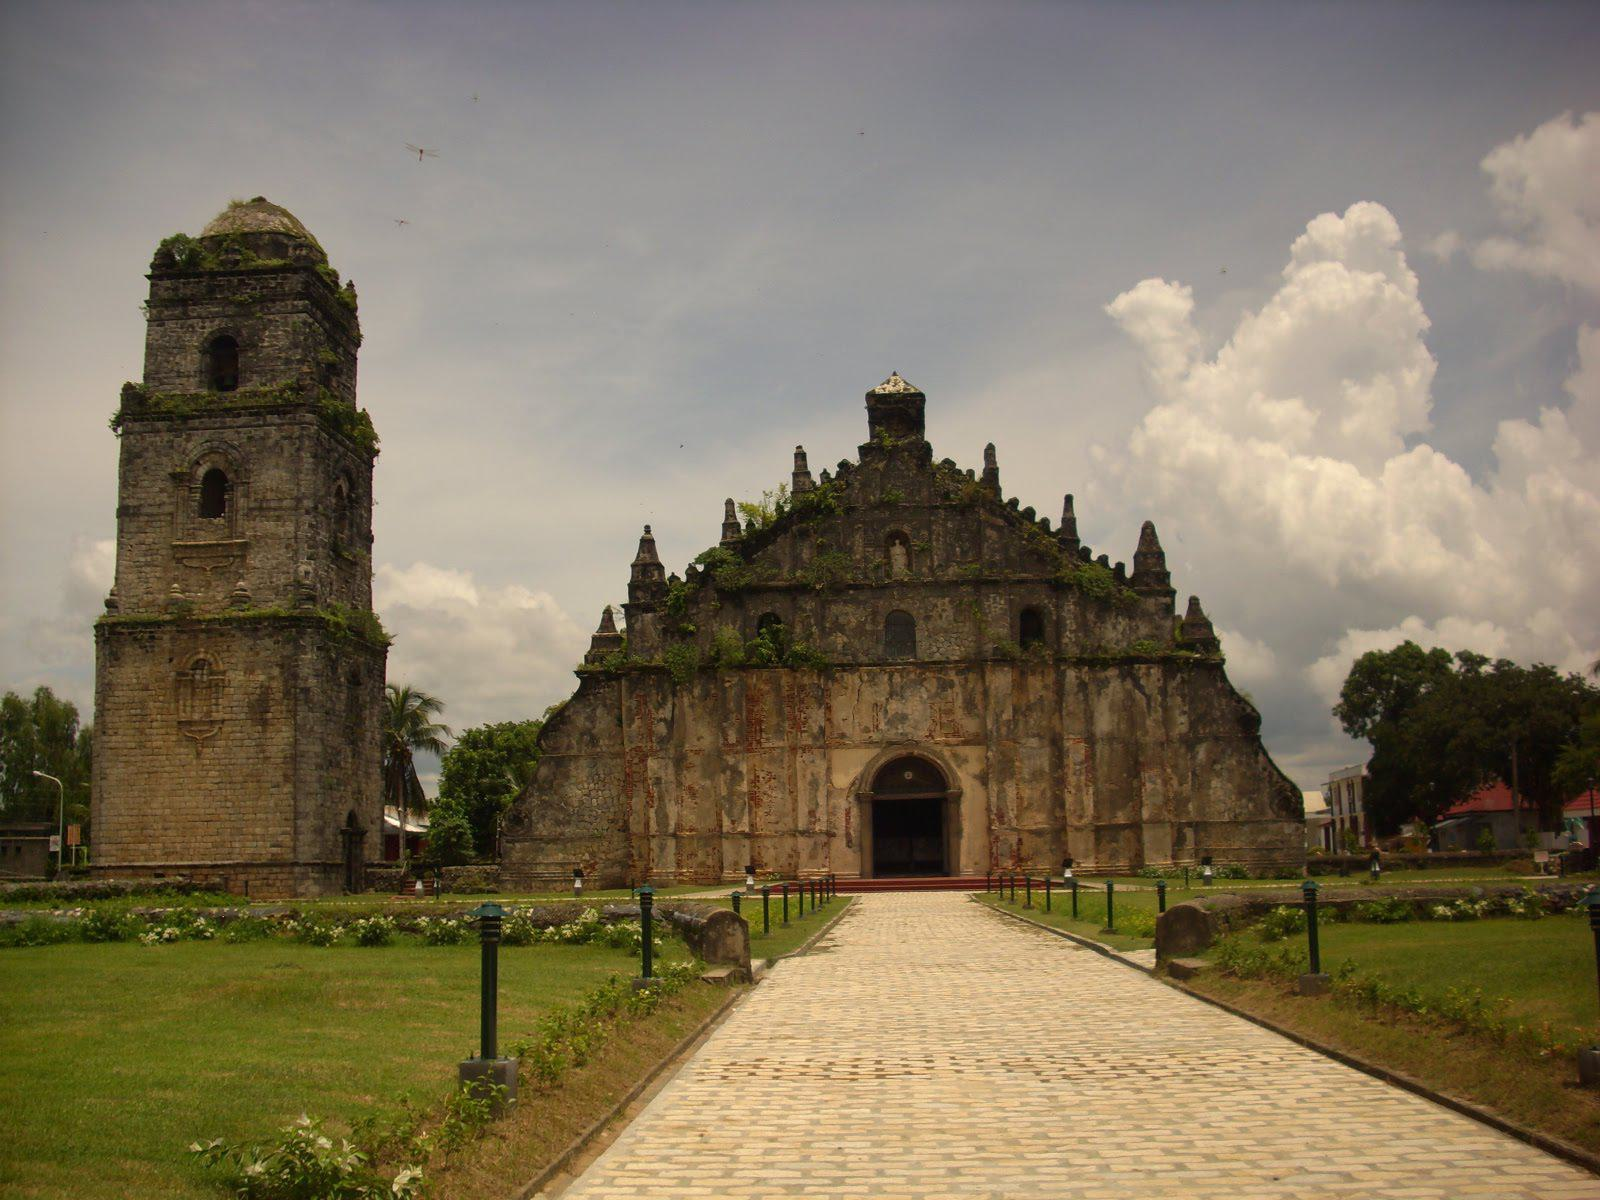paoay_church_paoay_ilocos_norte: (62, 163, 1343, 913)
vegetation_damage: (129, 579, 286, 639), (716, 614, 823, 676), (310, 386, 389, 463), (1051, 550, 1133, 613), (325, 596, 401, 658), (135, 378, 223, 425), (690, 545, 774, 592), (147, 228, 219, 282), (804, 534, 859, 592), (656, 635, 704, 696)
